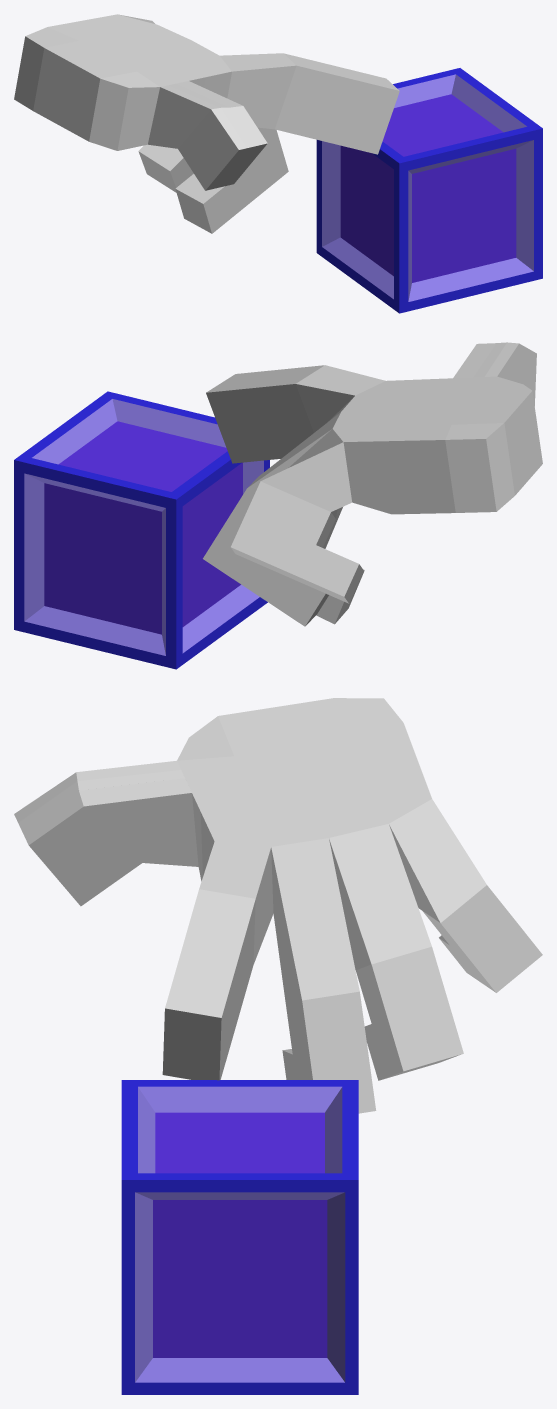
The model's file is handboxFBX.fbx.
3 renders of one model, top to bottom at view 1: azimuth 30°, elevation 25°; view 2: azimuth 150°, elevation 25°; view 3: azimuth 270°, elevation 25°, orthographic. The views are drawn at different scales.
Parts seen in each view (by area): view 1: Cube.002, Cube; view 2: Cube.002, Cube; view 3: Cube.002, Cube.
Part boxes in pixels (box(x1,y1,x2,y2)): Cube.002: box(14, 14, 399, 233); Cube: box(316, 68, 542, 313); Cube.002: box(203, 342, 542, 626); Cube: box(14, 391, 269, 669); Cube.002: box(14, 698, 542, 1113); Cube: box(121, 1080, 358, 1394).
Bounding box in the file's own units: 608 × 373 × 446.
